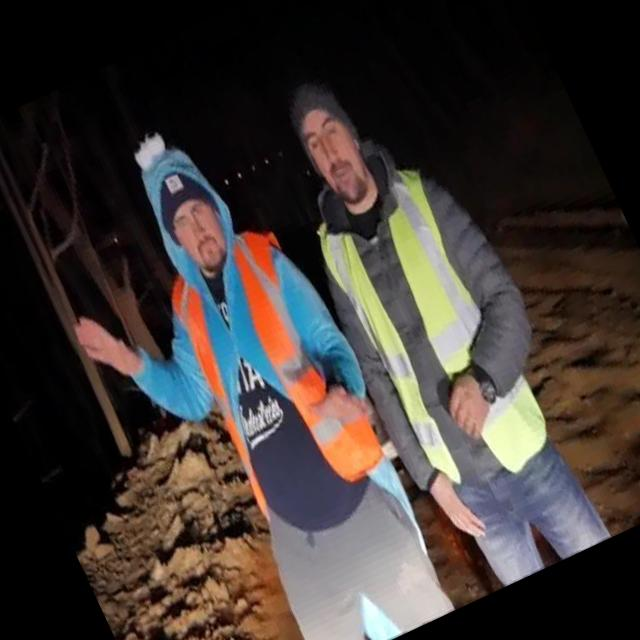safety_vest: (302, 157, 562, 510), (149, 214, 393, 528)
